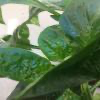Bell_pepper leaf: (0, 47, 53, 85), (58, 0, 99, 45), (38, 24, 81, 63)
